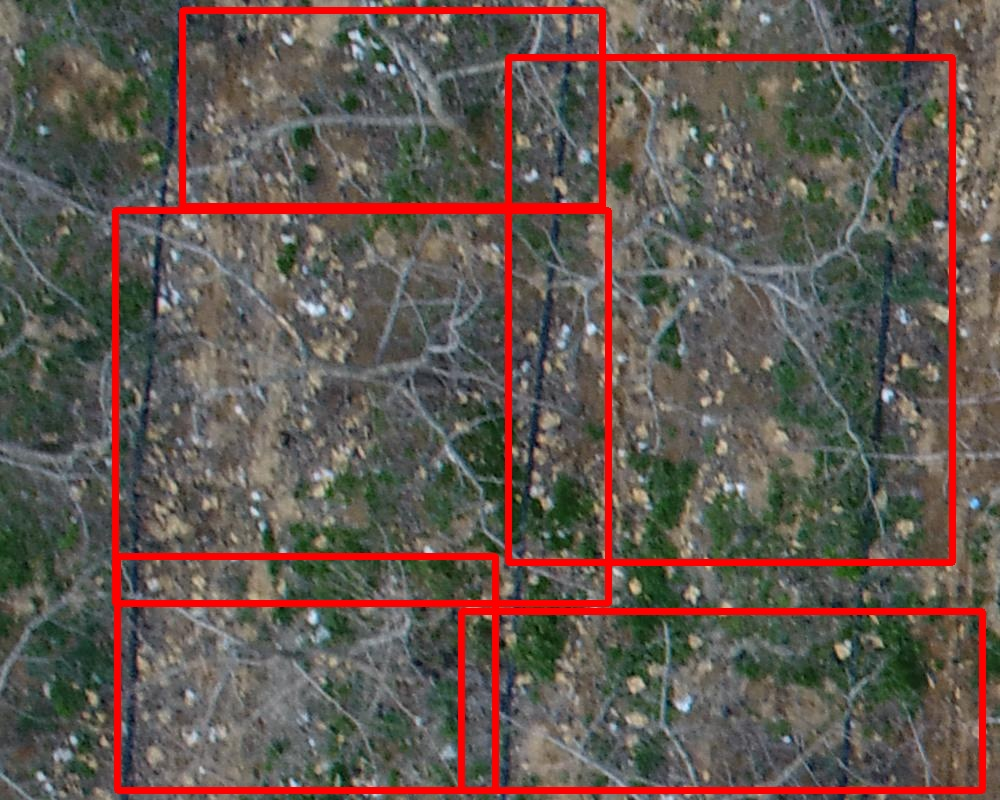apple: (508, 57, 952, 562), (115, 210, 608, 603), (461, 611, 982, 790), (117, 556, 495, 790), (182, 10, 602, 206)
